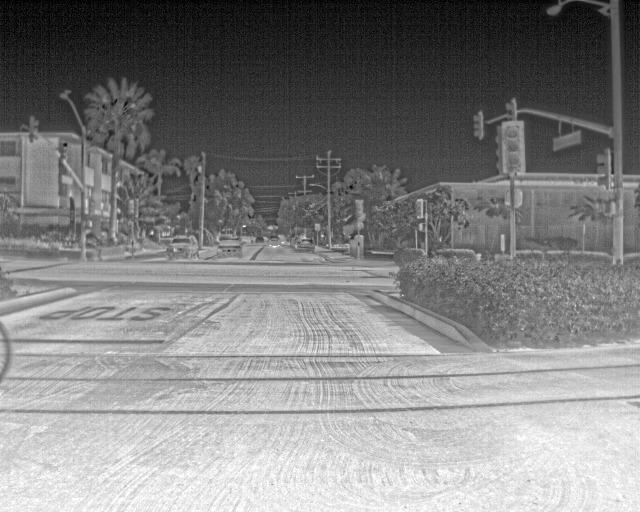car: (166, 234, 199, 260), (216, 237, 245, 259), (289, 227, 306, 247), (297, 238, 315, 253), (267, 236, 281, 248), (293, 237, 304, 250), (256, 237, 264, 243)
light: (506, 126, 521, 171), (596, 154, 607, 186), (505, 189, 522, 207), (495, 136, 503, 170), (473, 115, 481, 137), (603, 203, 614, 216), (61, 143, 68, 160), (32, 120, 38, 139), (356, 201, 362, 217), (134, 199, 139, 218), (128, 200, 134, 215), (416, 202, 421, 217), (86, 220, 92, 228), (357, 224, 363, 230), (418, 224, 423, 231)
sign: (553, 131, 581, 153), (61, 175, 72, 184), (500, 235, 506, 251), (315, 224, 320, 231)
